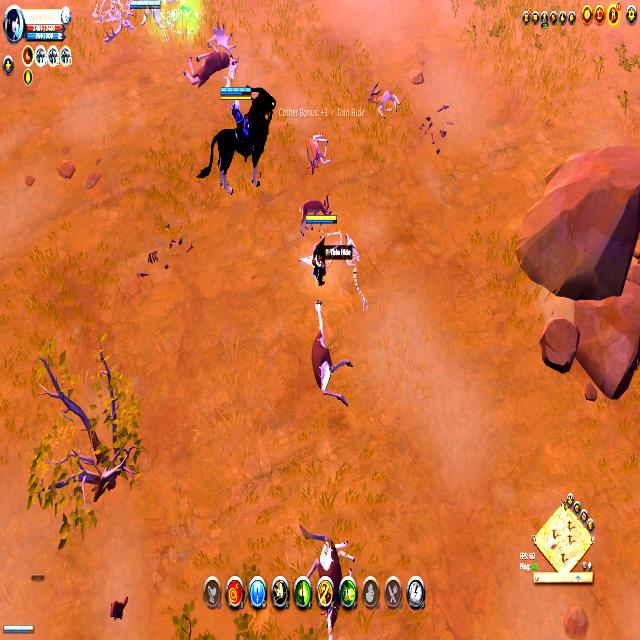mob: (296, 518, 356, 640), (309, 298, 354, 410), (182, 21, 241, 95), (368, 79, 400, 120), (304, 130, 332, 175)
ore: (296, 194, 333, 238)
red: (196, 82, 278, 194), (304, 212, 336, 288), (0, 620, 37, 639), (127, 0, 163, 18)
